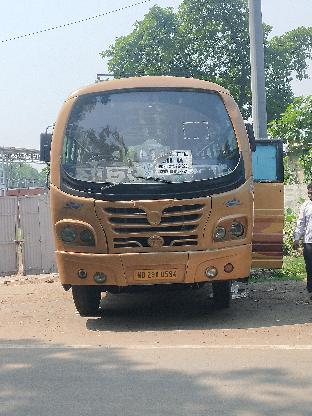bus: (41, 74, 284, 314)
